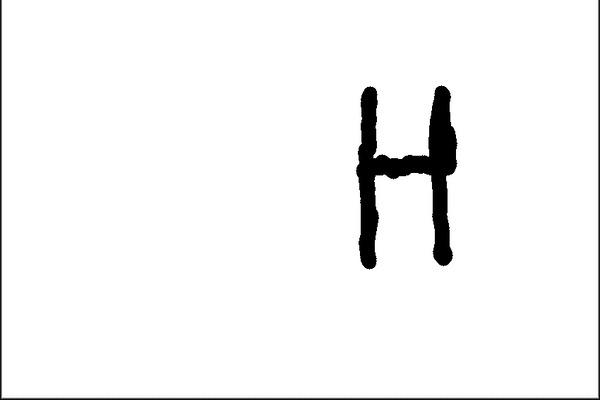H: (349, 77, 458, 270)
